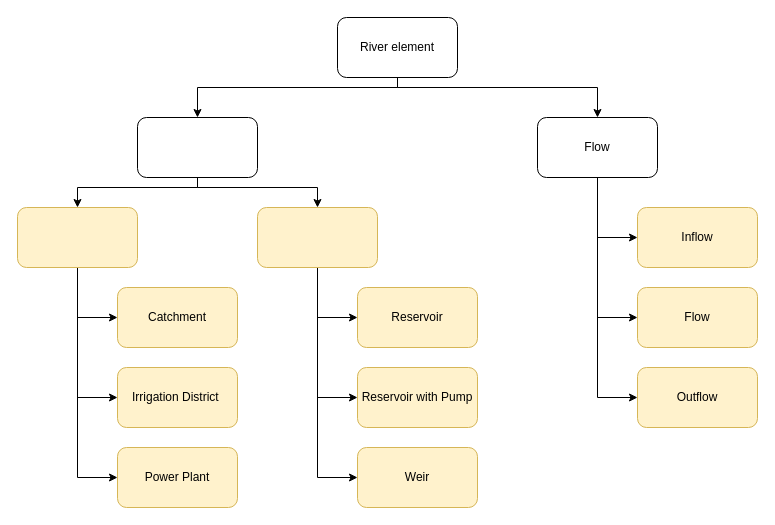
Some shapes in this 775 by 525 pixel diagram are drawn without their labels. Each missing label, with the centre of its shape:
"Controlled Facility" goes at point (317, 237).
"Facility" goes at point (77, 237).
"Node" goes at point (197, 147).
